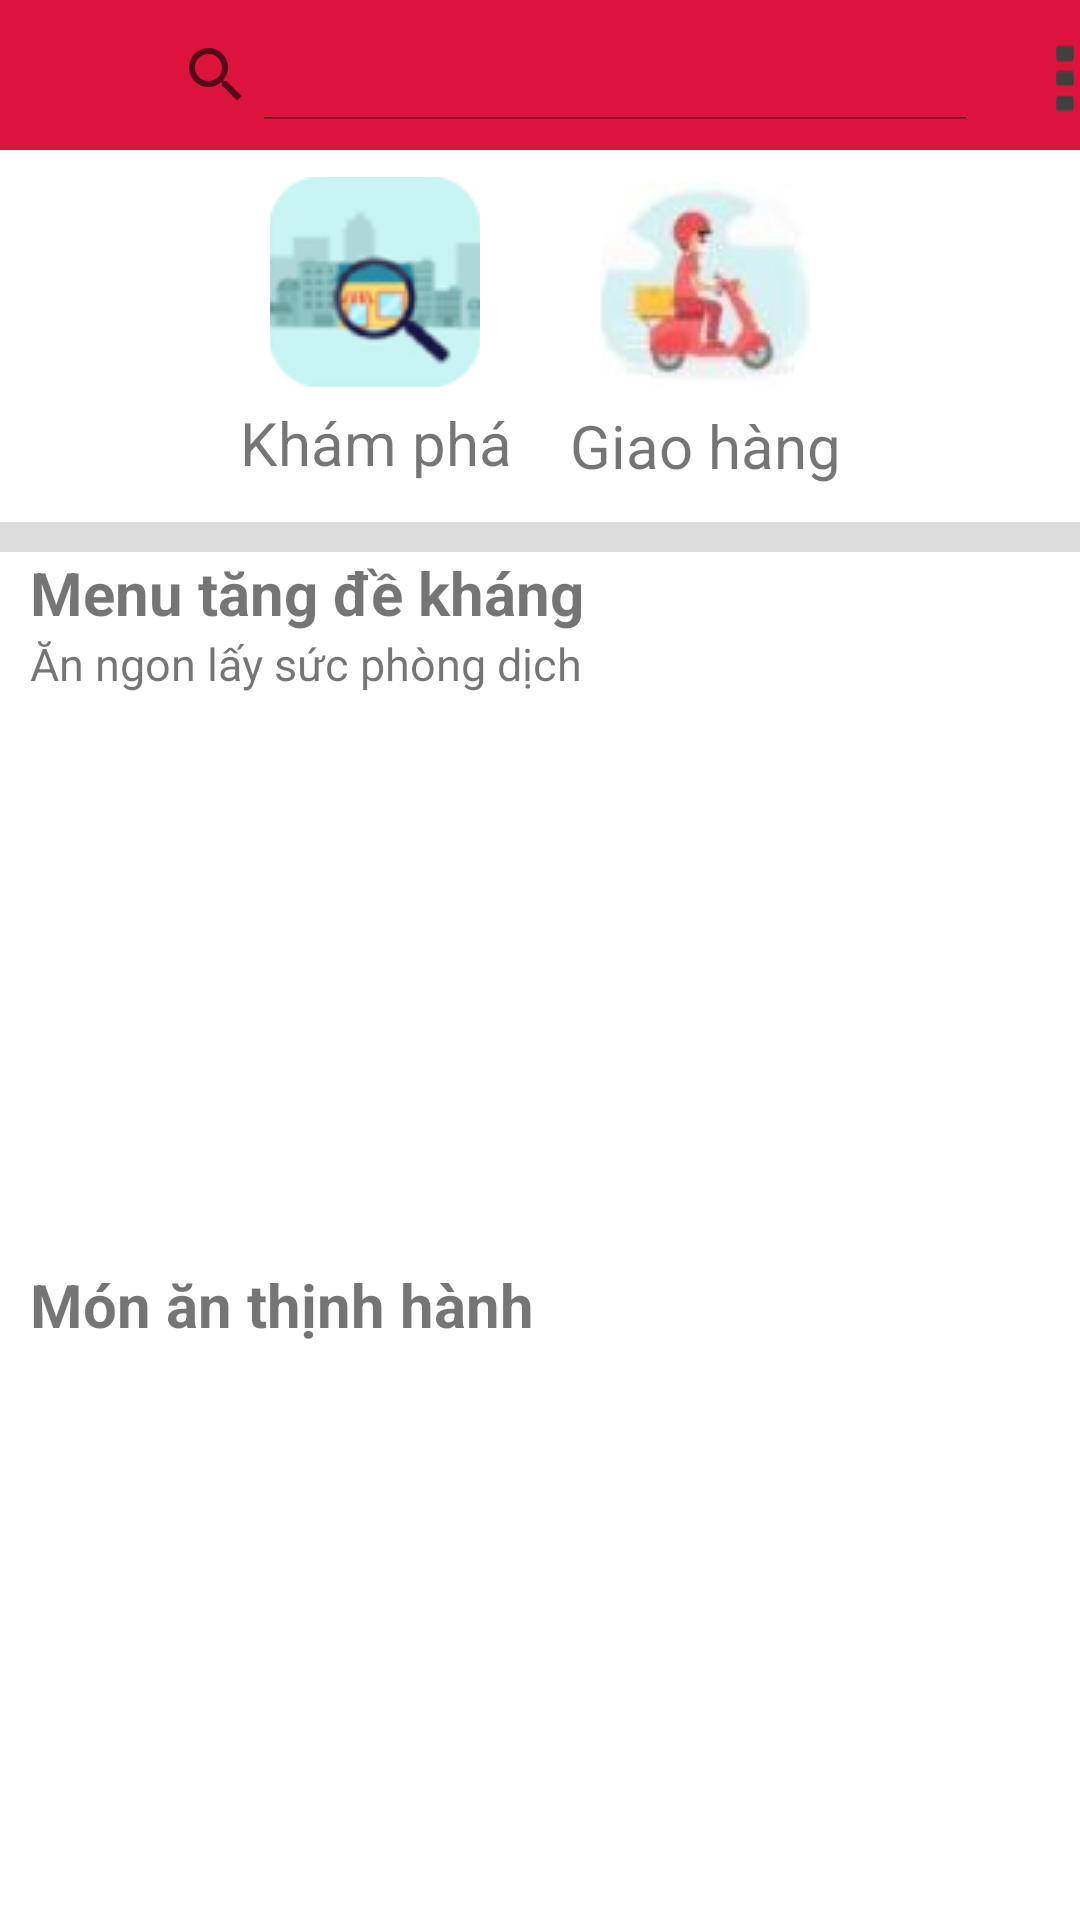

Icon bounding boxes for this 1080px x 1920px phone screenshot, format (x1, y1, x2, y2):
menu: (1056, 45, 1074, 112)
